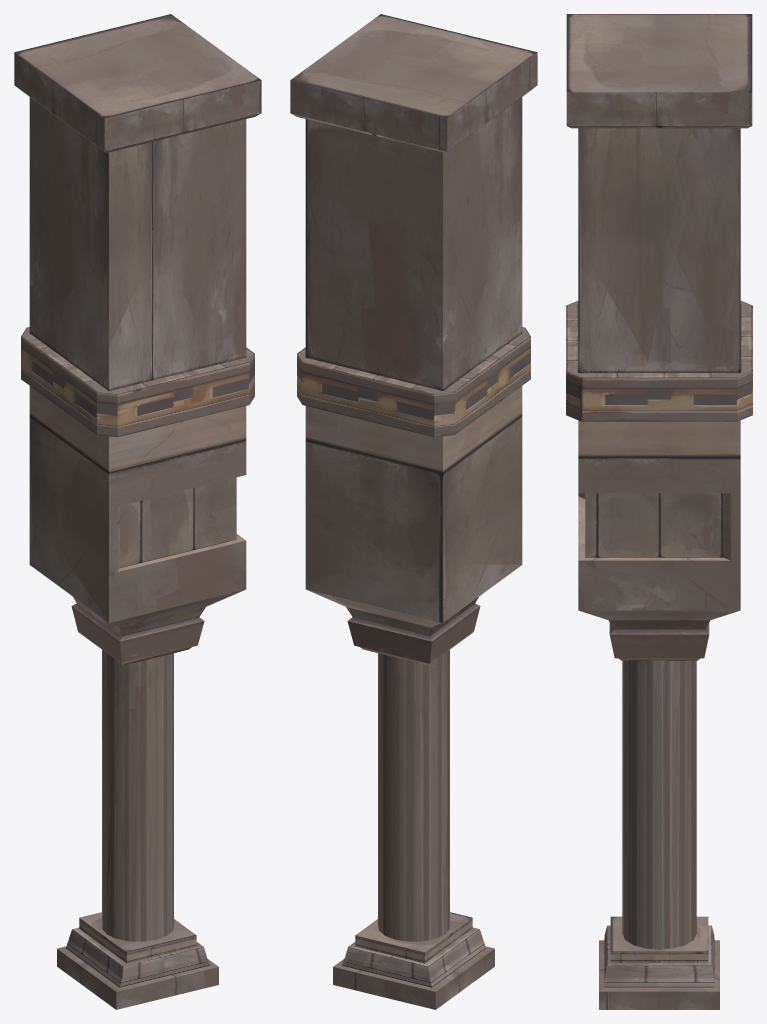
The model's file is Pillar.fbx.
3 renders of one model, left to right at view 1: azimuth 30°, elevation 25°; view 2: azimuth 150°, elevation 25°; view 3: azimuth 270°, elevation 25°, orthographic. The views are drawn at different scales.
Visible parts, largest first — view 1: MainPillar; view 2: MainPillar; view 3: MainPillar.
Part boxes in pixels (x1,y1,x2,y2): MainPillar: (14,14,261,1009); MainPillar: (290,14,537,1009); MainPillar: (566,14,752,1009).
Bounding box in the file's own units: 344 × 1890 × 344.
